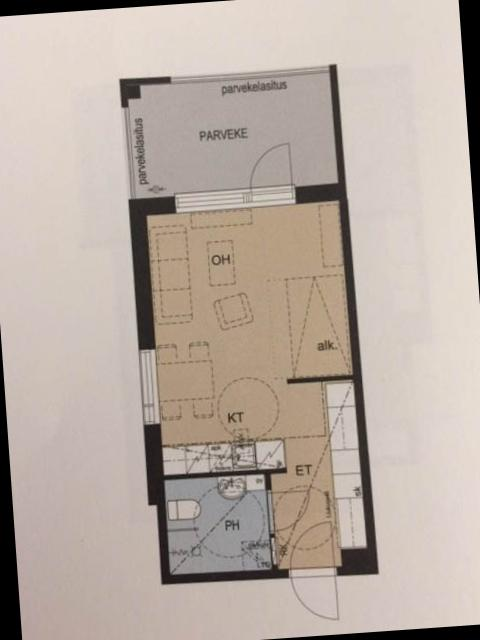door: (287, 563, 344, 627), (246, 140, 300, 204), (286, 519, 338, 581), (264, 485, 317, 536)
window: (162, 59, 336, 90), (166, 184, 254, 222), (132, 342, 166, 433), (116, 100, 142, 206)
